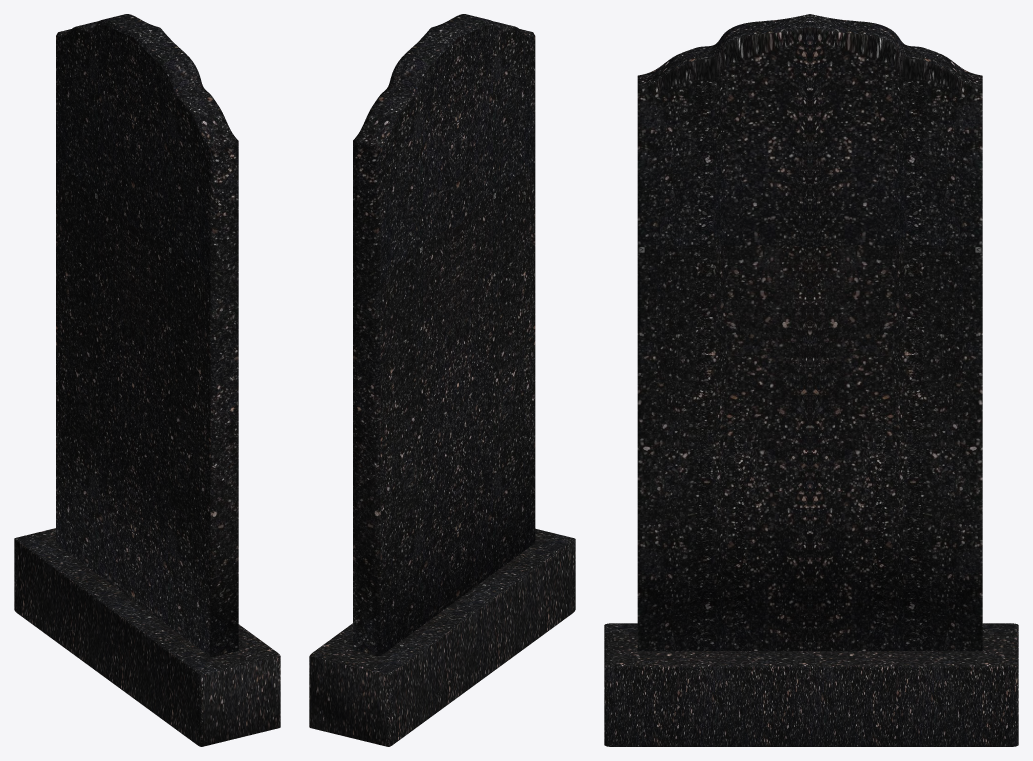
The model's file is Мус 2 [granite_1_muslim] (100).glb.
3 renders of one model, left to right at view 1: azimuth 30°, elevation 25°; view 2: azimuth 150°, elevation 25°; view 3: azimuth 270°, elevation 25°, orthographic. The views are drawn at different scales.
Visible parts, largest first — view 1: Cube, Куб.003; view 2: Cube, Куб.003; view 3: Cube, Куб.003.
Part boxes in pixels (x1=…): Cube: x1=56, y1=14, x2=238, y2=656; Куб.003: x1=14, y1=528, x2=280, y2=746; Cube: x1=353, y1=14, x2=535, y2=655; Куб.003: x1=309, y1=528, x2=575, y2=746; Cube: x1=637, y1=14, x2=982, y2=650; Куб.003: x1=604, y1=623, x2=1018, y2=746.
Size of the model in its own units: 0.15 by 1.13 by 0.6.
Materials: 1 (1 with a texture image).
